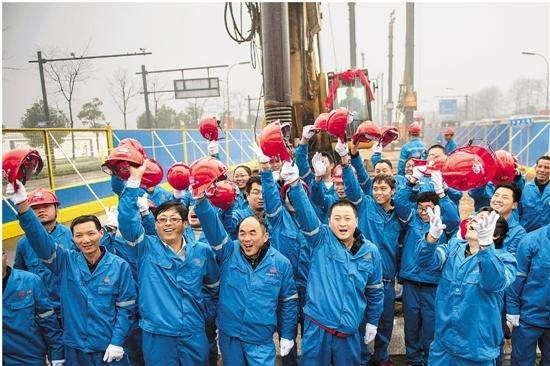NoHelmet: (235, 214, 271, 256), (155, 199, 187, 241), (331, 202, 359, 240)
